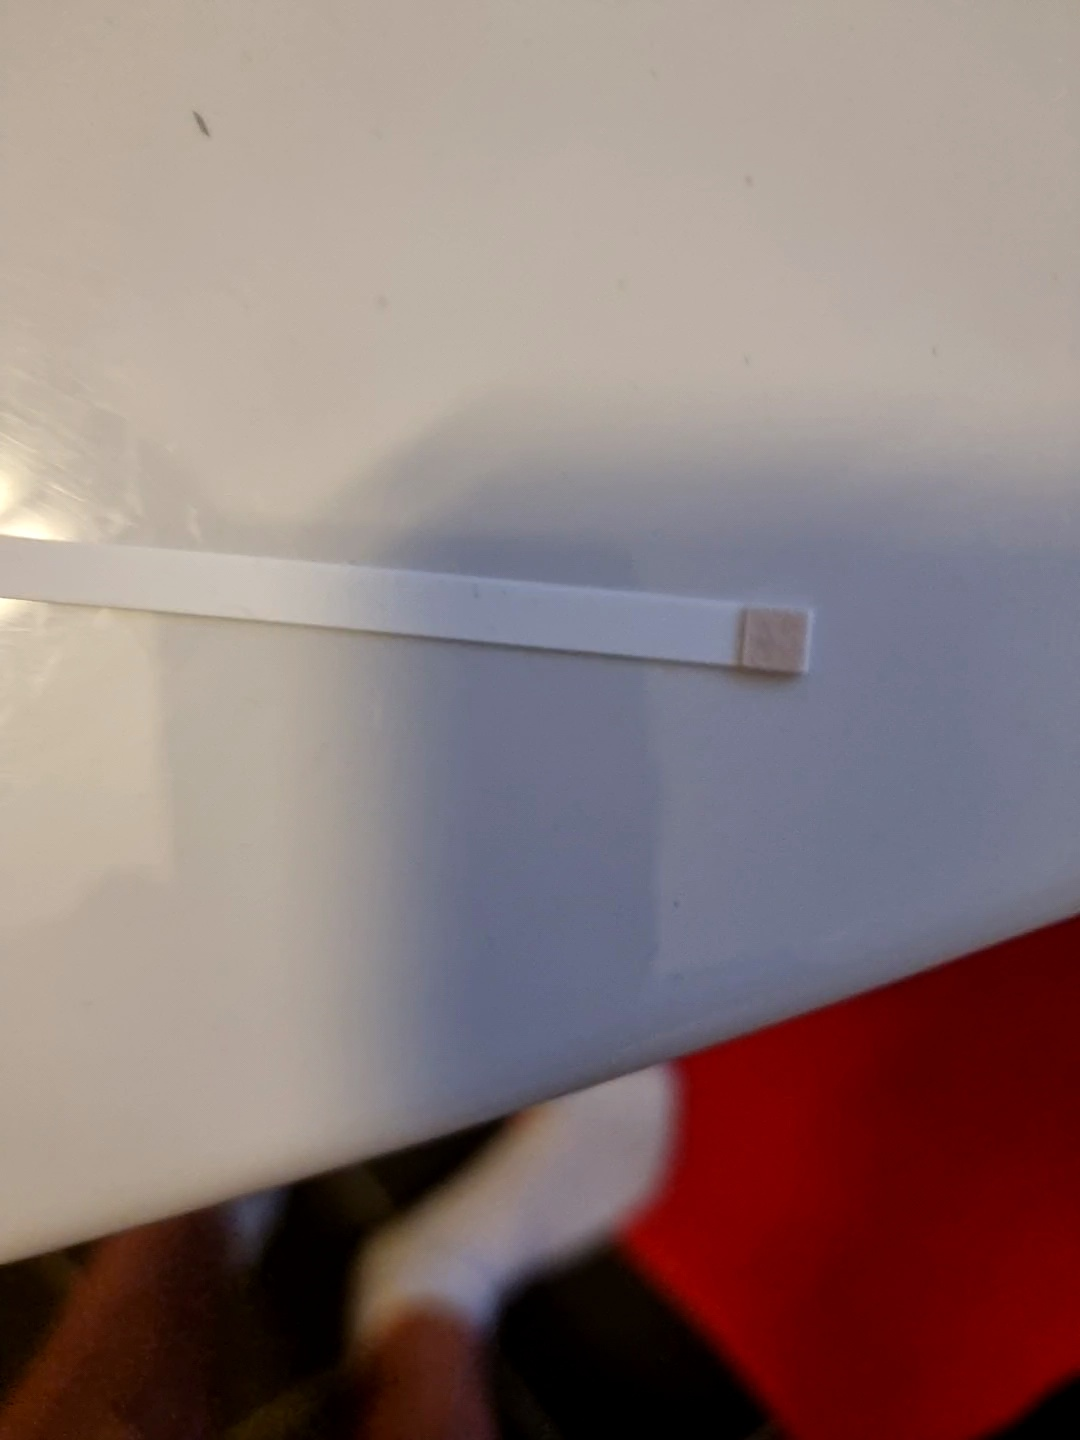keto-tip: (733, 598, 820, 683)
